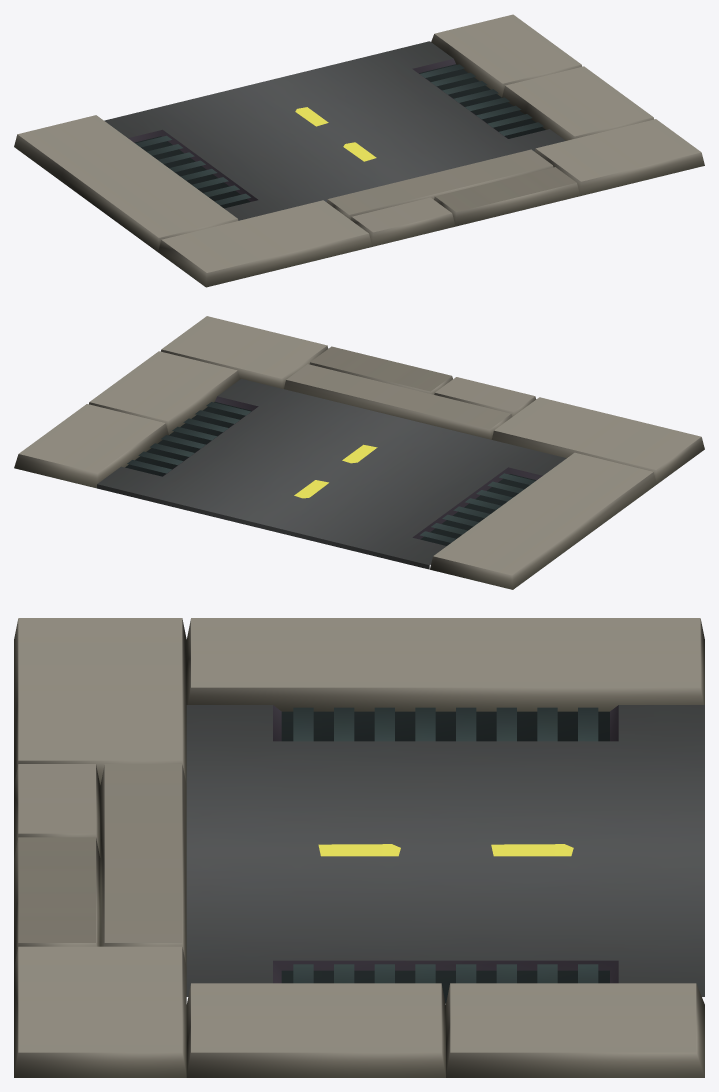
File: Road_3A_End.fbx
3 views of the same model, one above another, from view 1: azimuth 30°, elevation 25°; view 2: azimuth 150°, elevation 25°; view 3: azimuth 270°, elevation 25° (orthographic). The views are drawn at different scales.
Visible parts, largest first — view 1: Road_3A_End; view 2: Road_3A_End; view 3: Road_3A_End.
Boxes of the visible parts, <box> form: Road_3A_End: <box>14,14,704,287</box>; Road_3A_End: <box>14,316,704,589</box>; Road_3A_End: <box>14,618,704,1077</box>.
Size of the model in its own units: 1200 by 30 by 800.
